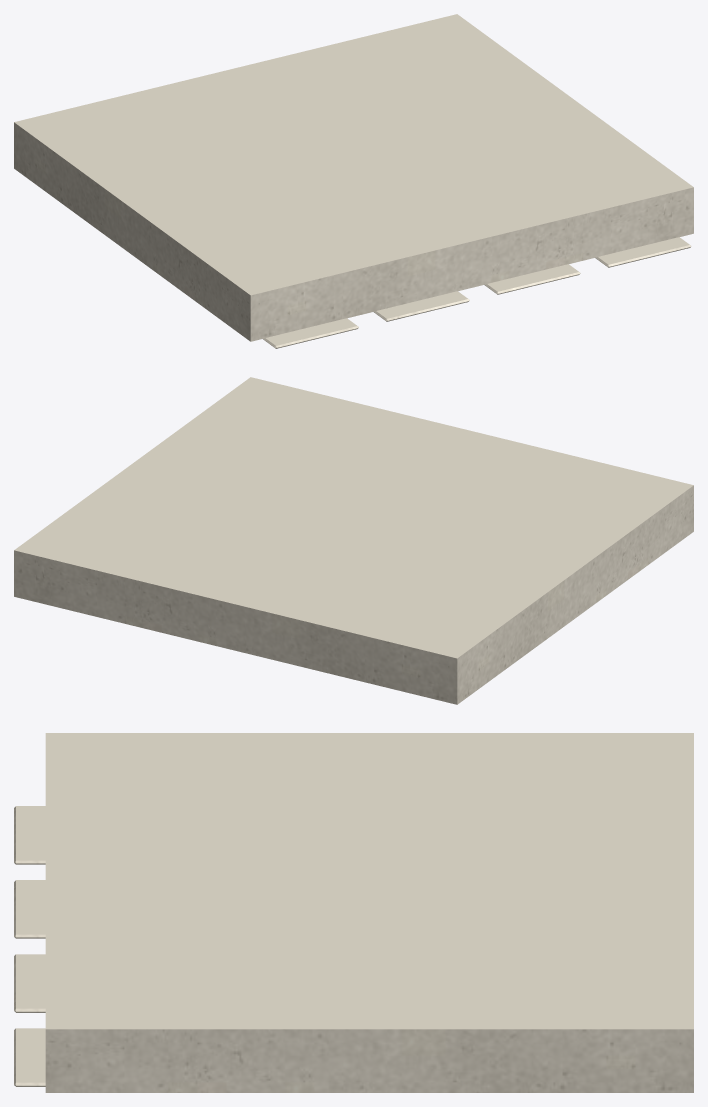
Rendered from ceiling_tin_front.glb.
3 renders of one model, top to bottom at view 1: azimuth 30°, elevation 25°; view 2: azimuth 150°, elevation 25°; view 3: azimuth 270°, elevation 25°, orthographic. The views are drawn at different scales.
Parts seen in each view (by area): view 1: ceiling_tin_front_plaster; view 2: ceiling_tin_front_plaster; view 3: ceiling_tin_front_plaster.
Boxes of the visible parts, left/top/right/bottom form: ceiling_tin_front_plaster: left=14, top=14, right=693, bottom=348; ceiling_tin_front_plaster: left=14, top=377, right=693, bottom=704; ceiling_tin_front_plaster: left=14, top=733, right=693, bottom=1092.
Bounding box in the file's own units: 2 × 0.212 × 1.94.
Materials: 1 (1 with a texture image).
